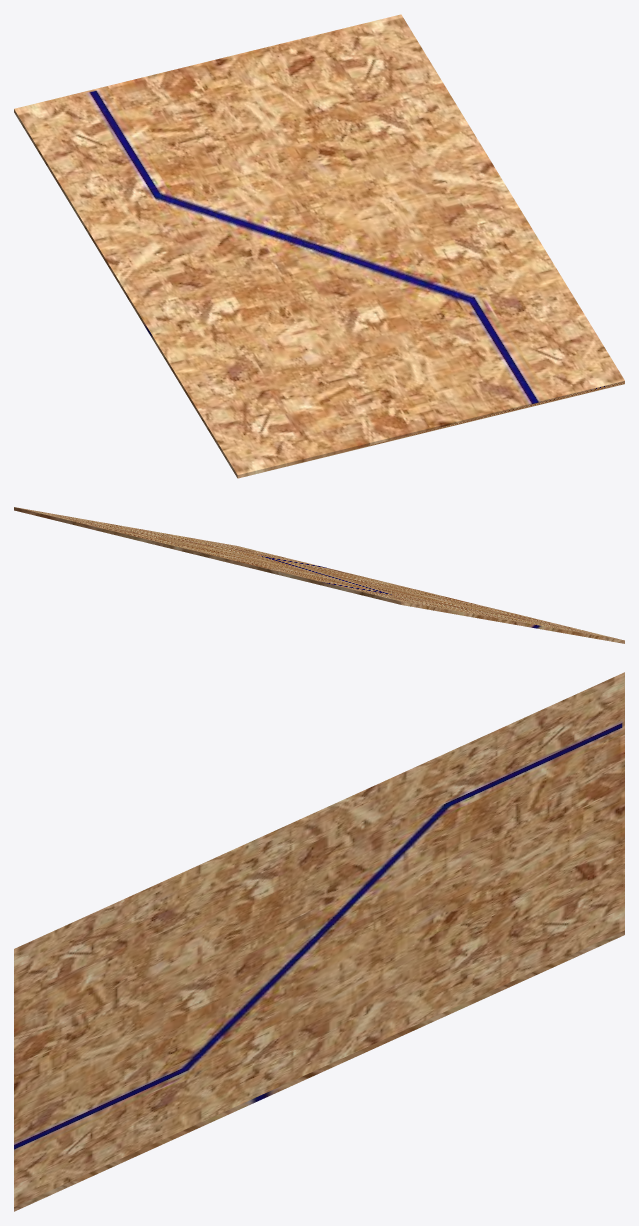
Rendered from simple_elev_ramp_line.dae.
3 renders of one model, top to bottom at view 1: azimuth 30°, elevation 25°; view 2: azimuth 150°, elevation 25°; view 3: azimuth 270°, elevation 25°, orthographic. The views are drawn at different scales.
Visible parts, largest first — view 1: Cube_001; view 2: Cube_001; view 3: Cube_001.
Boxes of the visible parts, box(x1,y1,x2,y2) form: Cube_001: box(14, 14, 624, 478); Cube_001: box(14, 507, 624, 643); Cube_001: box(14, 672, 624, 1211).
Bounding box in the file's own units: 2.36 × 2.36 × 1.2.
Materials: 1 (1 with a texture image).
